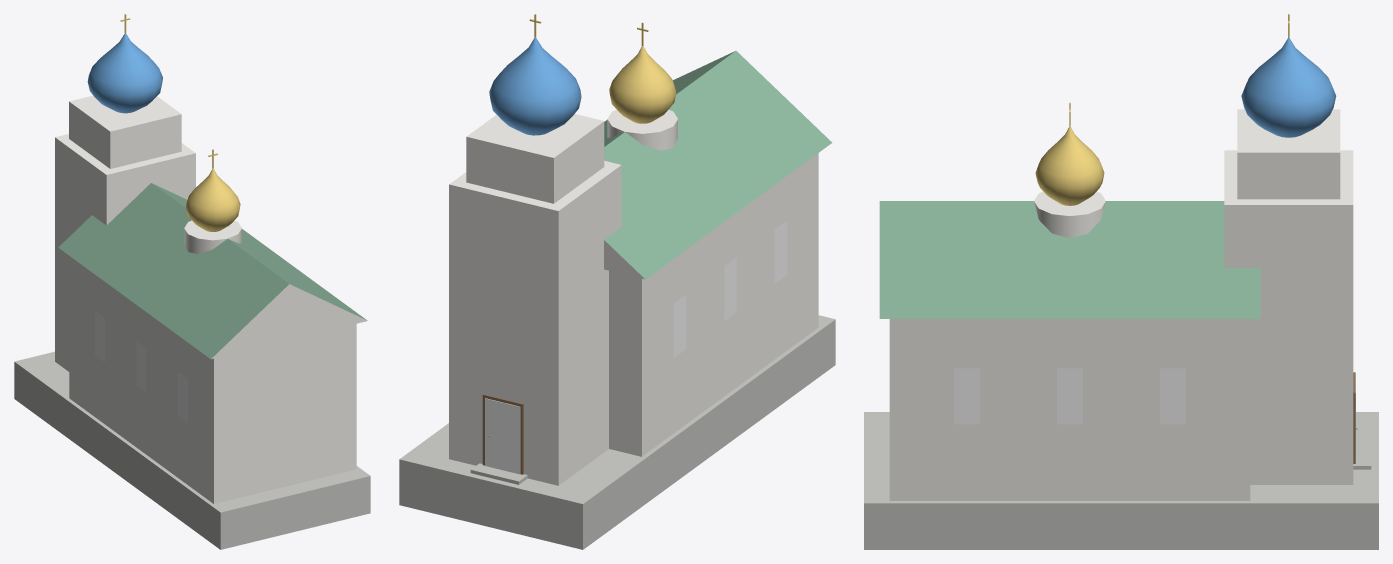
The model's file is church.glb.
The picture shows the model from 3 angles, left to right: view 1: azimuth 30°, elevation 25°; view 2: azimuth 150°, elevation 25°; view 3: azimuth 270°, elevation 25°; orthographic projection. The views are drawn at different scales.
Visible parts, largest first — view 1: church; view 2: church; view 3: church.
Part boxes in pixels (bbox=[...]): church: bbox=[14, 14, 370, 549]; church: bbox=[399, 14, 835, 549]; church: bbox=[864, 14, 1378, 549].
Size of what is drawn, in the model's own units: 8.8 by 21 by 20.
